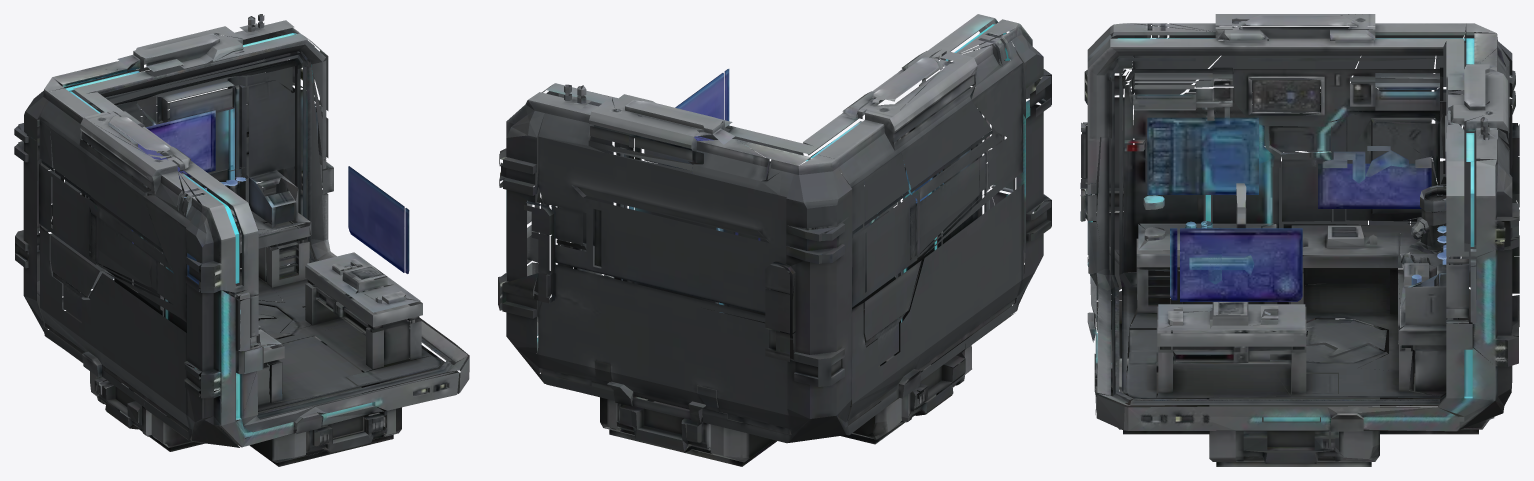
The model's file is research_module_LOD1.glb.
3 renders of one model, left to right at view 1: azimuth 30°, elevation 25°; view 2: azimuth 150°, elevation 25°; view 3: azimuth 270°, elevation 25°, orthographic. The views are drawn at different scales.
Parts seen in each view (by area): view 1: research_module_LOD1; view 2: research_module_LOD1; view 3: research_module_LOD1.
Boxes of the visible parts, x1,y1,x2,y2 form: research_module_LOD1: [14, 14, 469, 466]; research_module_LOD1: [498, 14, 1051, 466]; research_module_LOD1: [1080, 14, 1519, 466].
Bounding box in the file's own units: 0.8082 × 0.7808 × 0.9472.
1 material, 1 textured.
